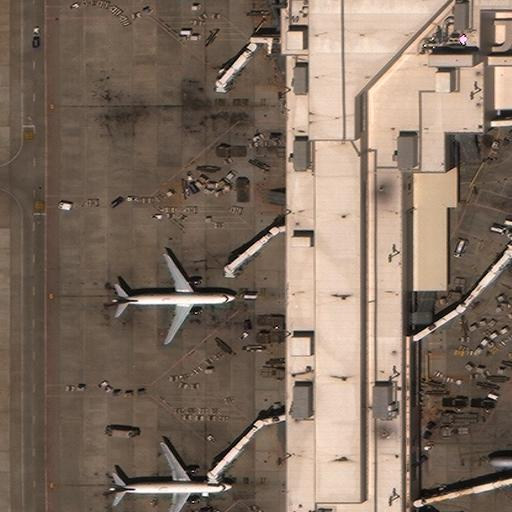Medium Civil Transport: (108, 254, 238, 344), (106, 443, 236, 512)
